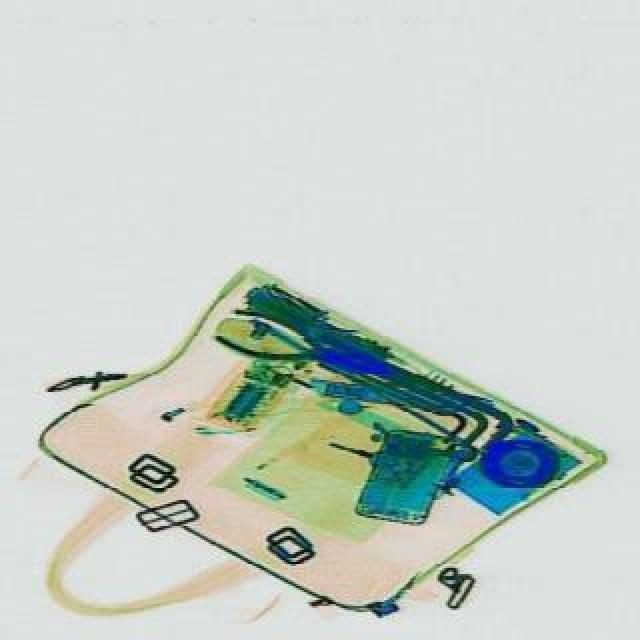wrench: (210, 300, 350, 384)
